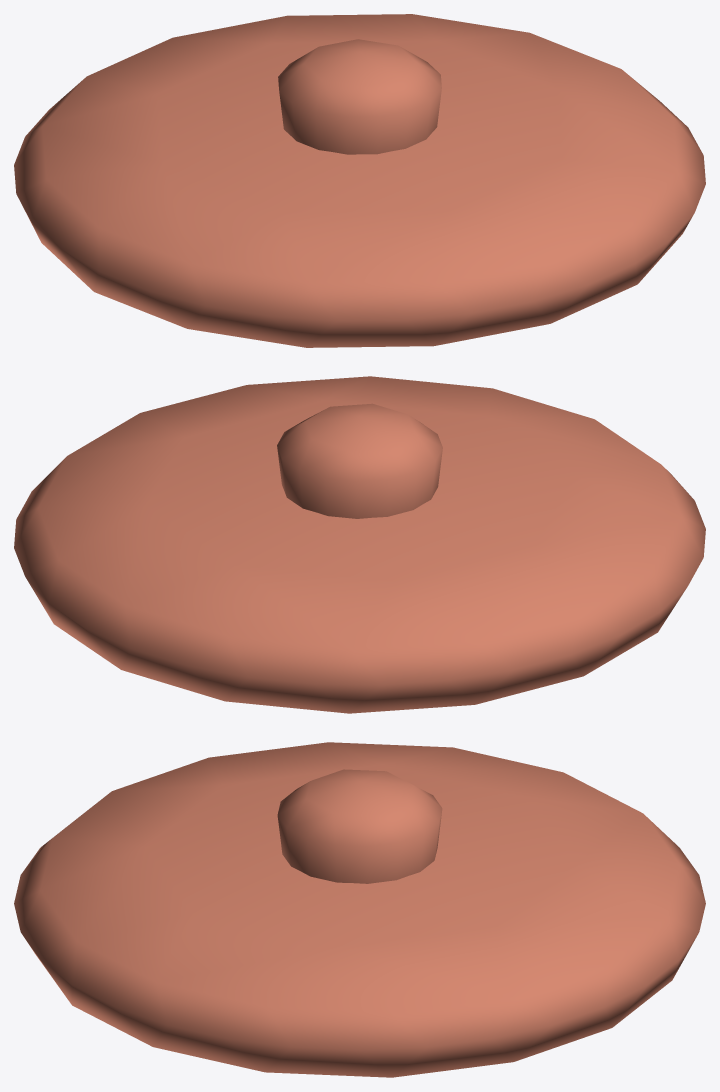
File: ClayDish_01 1.fbx
The picture shows the model from 3 angles, top to bottom: view 1: azimuth 30°, elevation 25°; view 2: azimuth 150°, elevation 25°; view 3: azimuth 270°, elevation 25°; orthographic projection.
Parts seen in each view (by area): view 1: ClayDish_01; view 2: ClayDish_01; view 3: ClayDish_01.
Boxes of the visible parts, x1=… form: ClayDish_01: x1=14, y1=14, x2=705, y2=347; ClayDish_01: x1=14, y1=376, x2=705, y2=713; ClayDish_01: x1=14, y1=742, x2=705, y2=1077.
Size of the model in its own units: 21.64 by 5.48 by 21.64.
